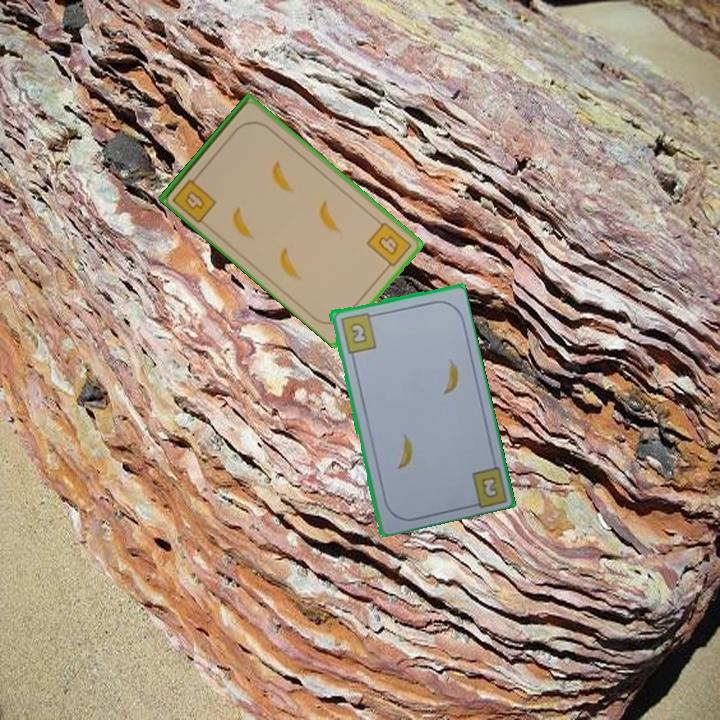2b: (337, 309, 379, 356), (479, 475, 499, 499)
4b: (363, 218, 415, 273), (169, 170, 220, 226)
